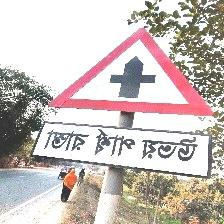Crossroad: (36, 26, 217, 176)
